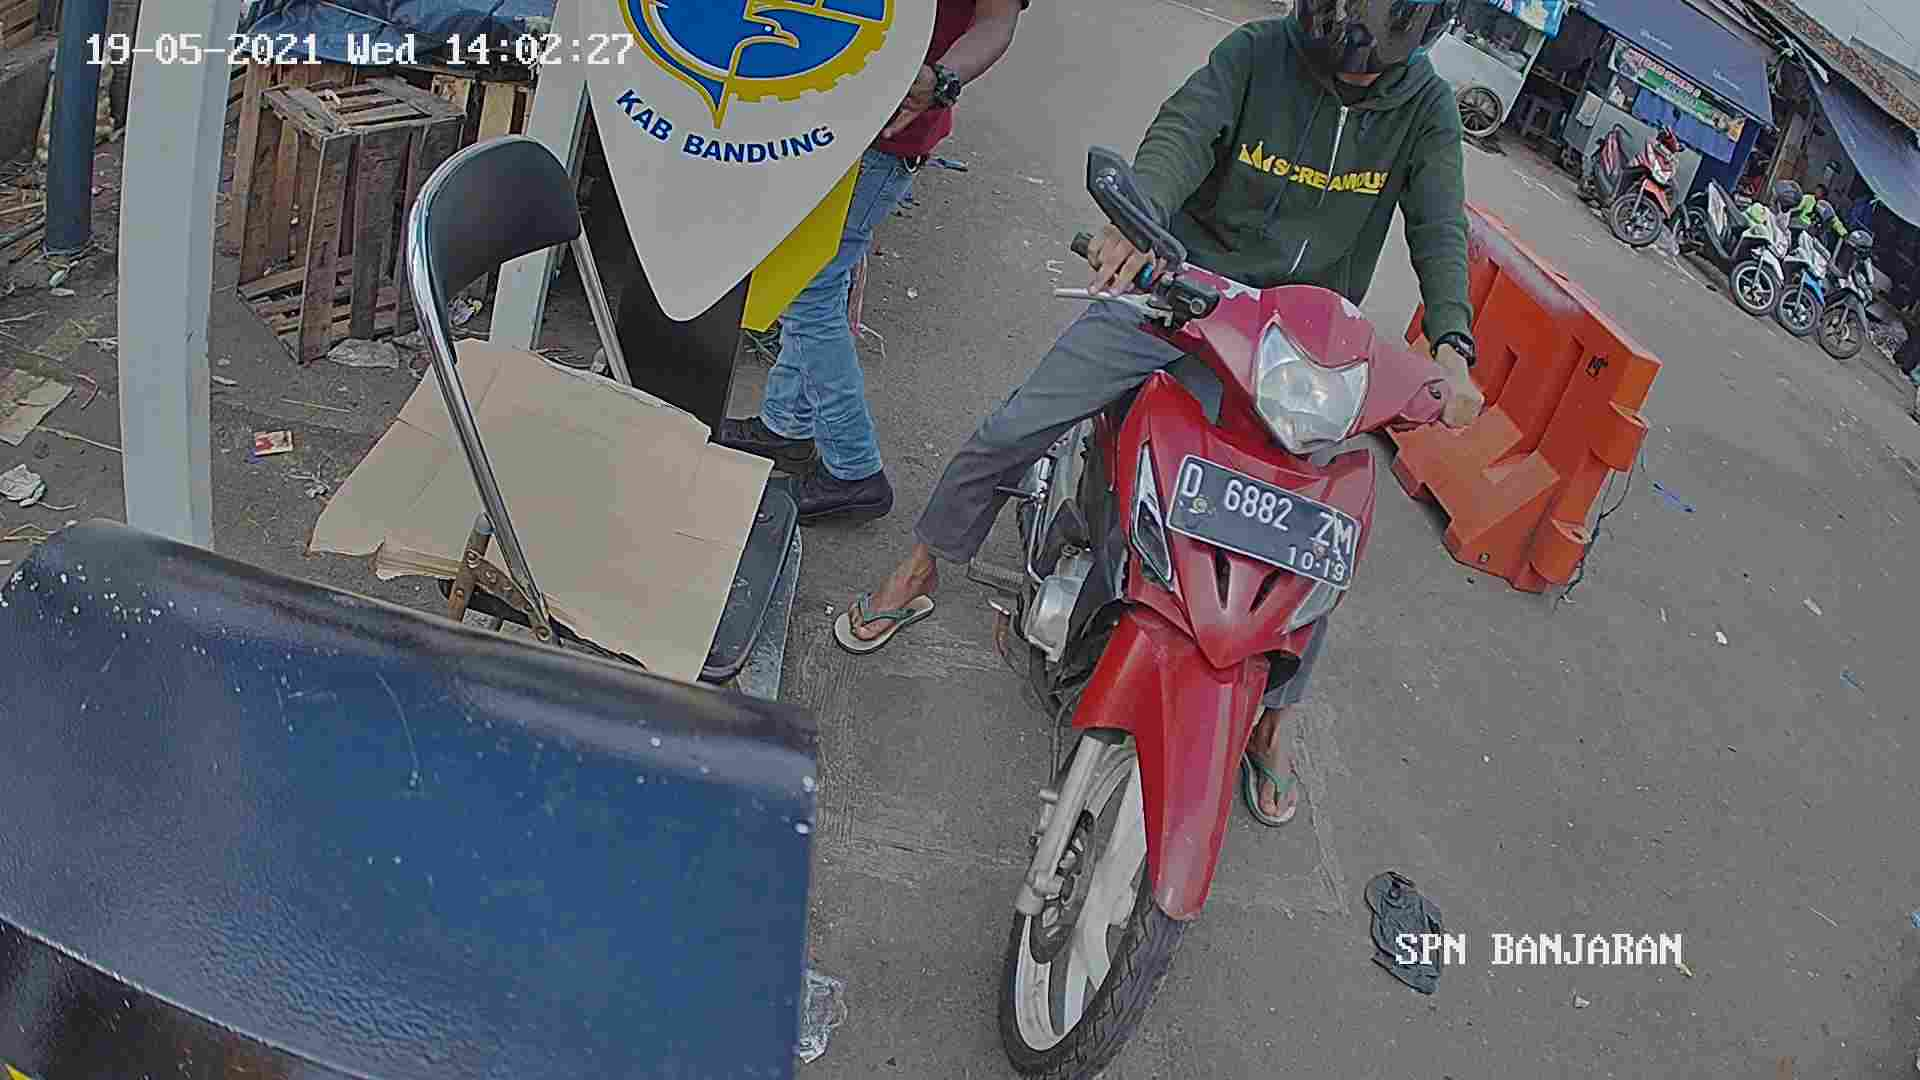motor: (986, 198, 1443, 1071)
